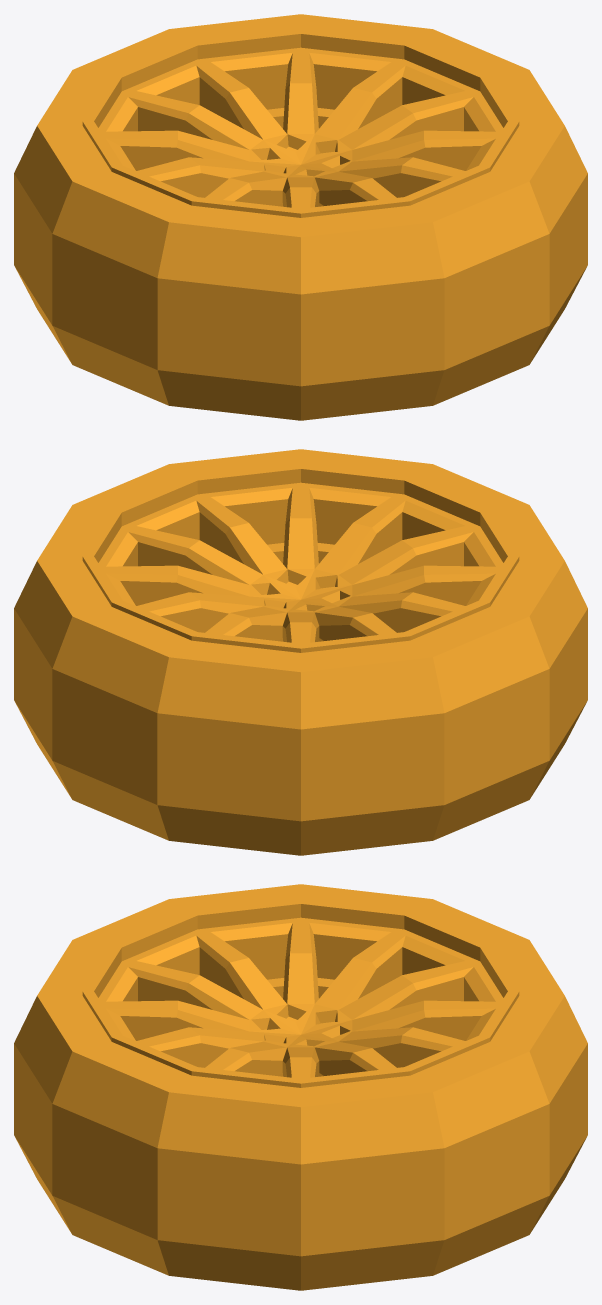
The model's file is SM_Wheel_Single_GTE.fbx.
3 renders of one model, top to bottom at view 1: azimuth 30°, elevation 25°; view 2: azimuth 150°, elevation 25°; view 3: azimuth 270°, elevation 25°, orthographic.
Visible parts, largest first — view 1: SM_Wheel_Single_GTE; view 2: SM_Wheel_Single_GTE; view 3: SM_Wheel_Single_GTE.
Part boxes in pixels (left/top/right/bottom): SM_Wheel_Single_GTE: left=14, top=14, right=587, bottom=420; SM_Wheel_Single_GTE: left=14, top=449, right=587, bottom=855; SM_Wheel_Single_GTE: left=14, top=884, right=587, bottom=1290.
Bounding box in the file's own units: 0.7867 × 0.2843 × 0.7867.
